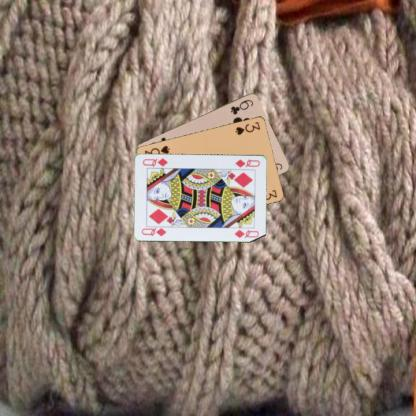3s: (233, 119, 261, 136)
6c: (228, 96, 255, 115)
Qd: (140, 223, 170, 237), (233, 156, 261, 168)
